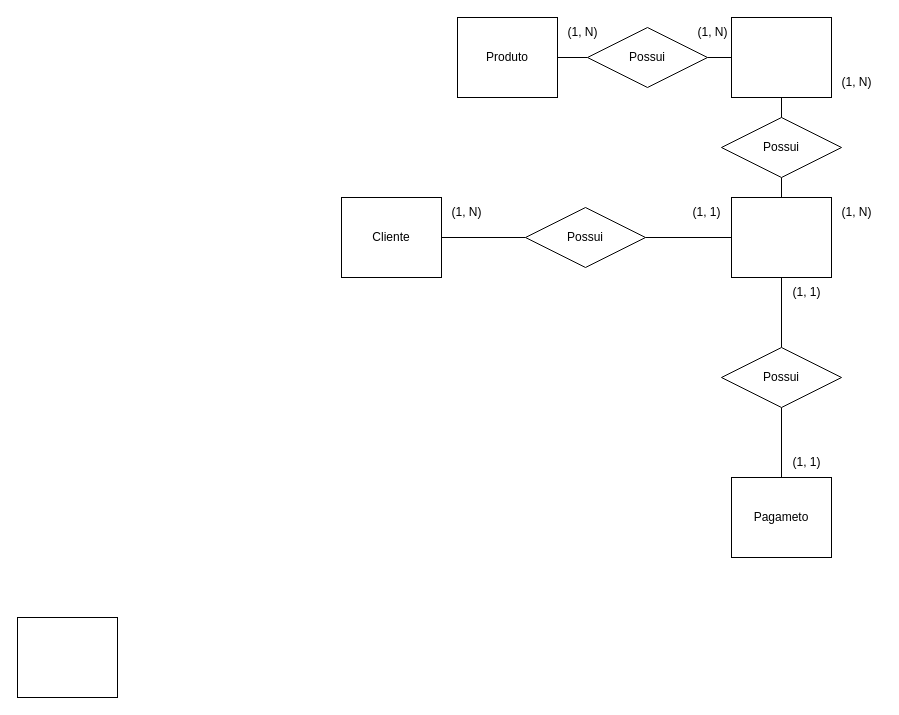
This 899x715 diagram has some shape labels left out. The centre of each missing label's shape, as x and y in pixels:
"Entity" goes at (67,657).
"ItemPedido" goes at (781,57).
"Pedido" goes at (781,237).
